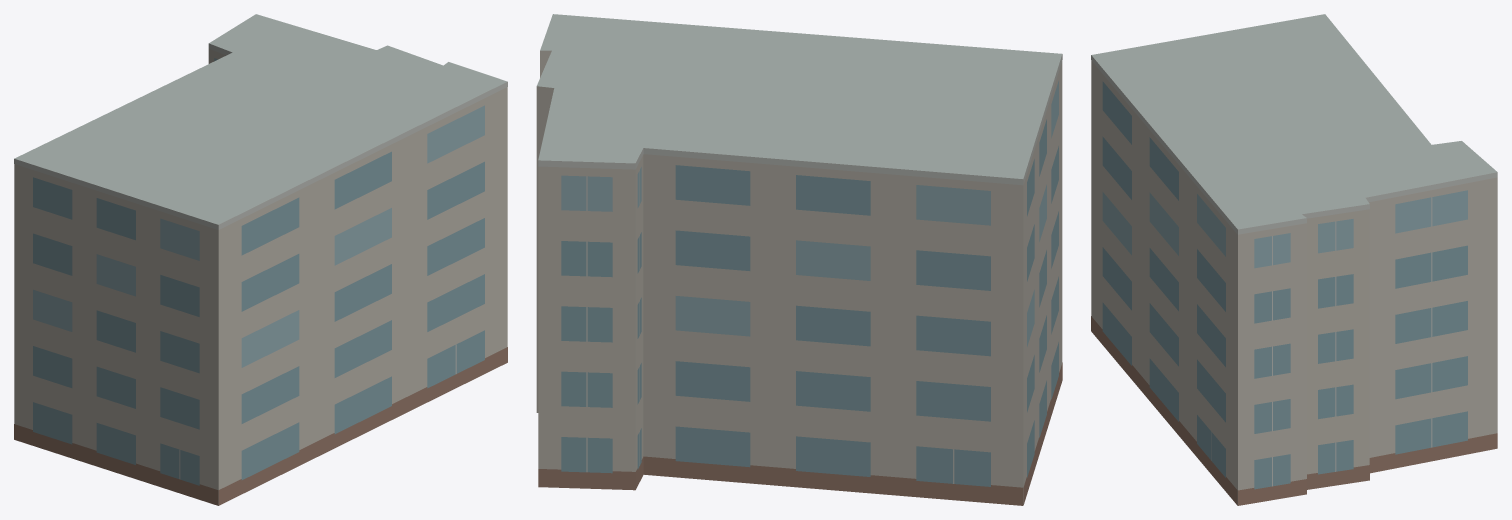
The model's file is survey-upis-32882374.glb.
3 renders of one model, left to right at view 1: azimuth 30°, elevation 25°; view 2: azimuth 150°, elevation 25°; view 3: azimuth 270°, elevation 25°, orthographic. The views are drawn at different scales.
Parts seen in each view (by area): view 1: survey-upis-32882374.tmp; view 2: survey-upis-32882374.tmp; view 3: survey-upis-32882374.tmp.
Part boxes in pixels (x1,y1,x2,y2): survey-upis-32882374.tmp: (14, 14, 507, 505); survey-upis-32882374.tmp: (536, 14, 1062, 505); survey-upis-32882374.tmp: (1091, 14, 1497, 505).
Bounding box in the file's own units: 21.75 × 13 × 17.34.
